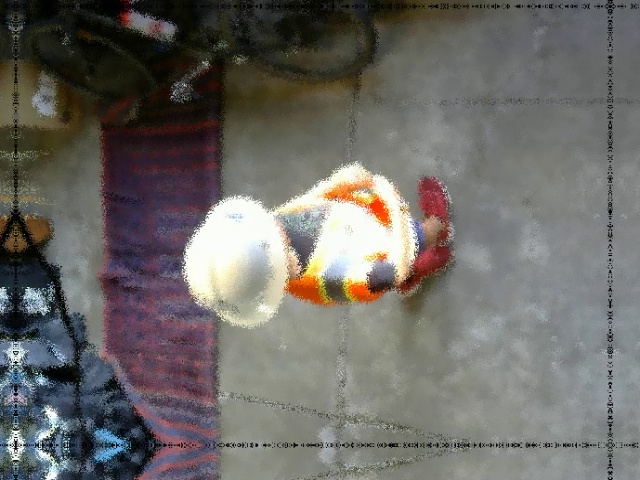eight: (192, 293, 235, 313)
